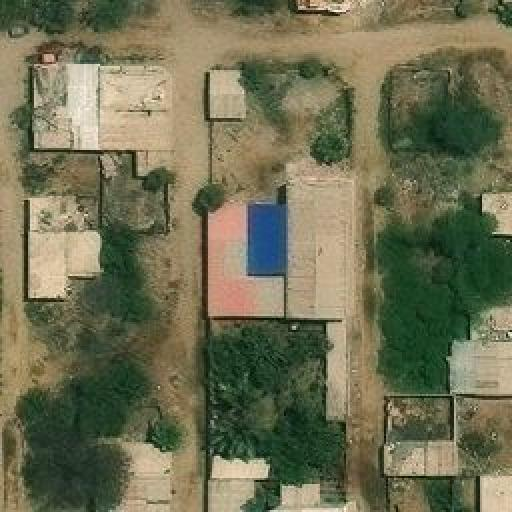manzanas: (205, 63, 355, 510), (23, 59, 181, 309), (383, 331, 510, 510), (20, 435, 171, 510), (471, 193, 510, 233)
